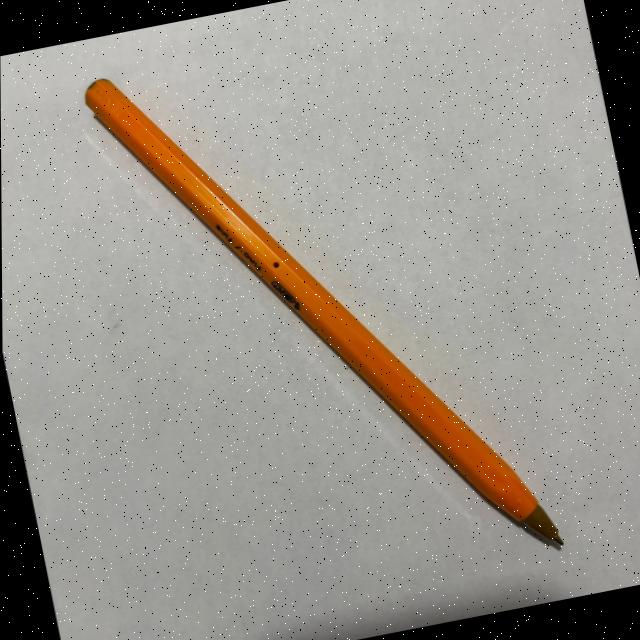pencil: (84, 79, 563, 550)
